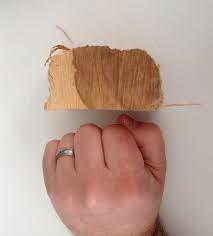fist: (45, 115, 164, 233)
